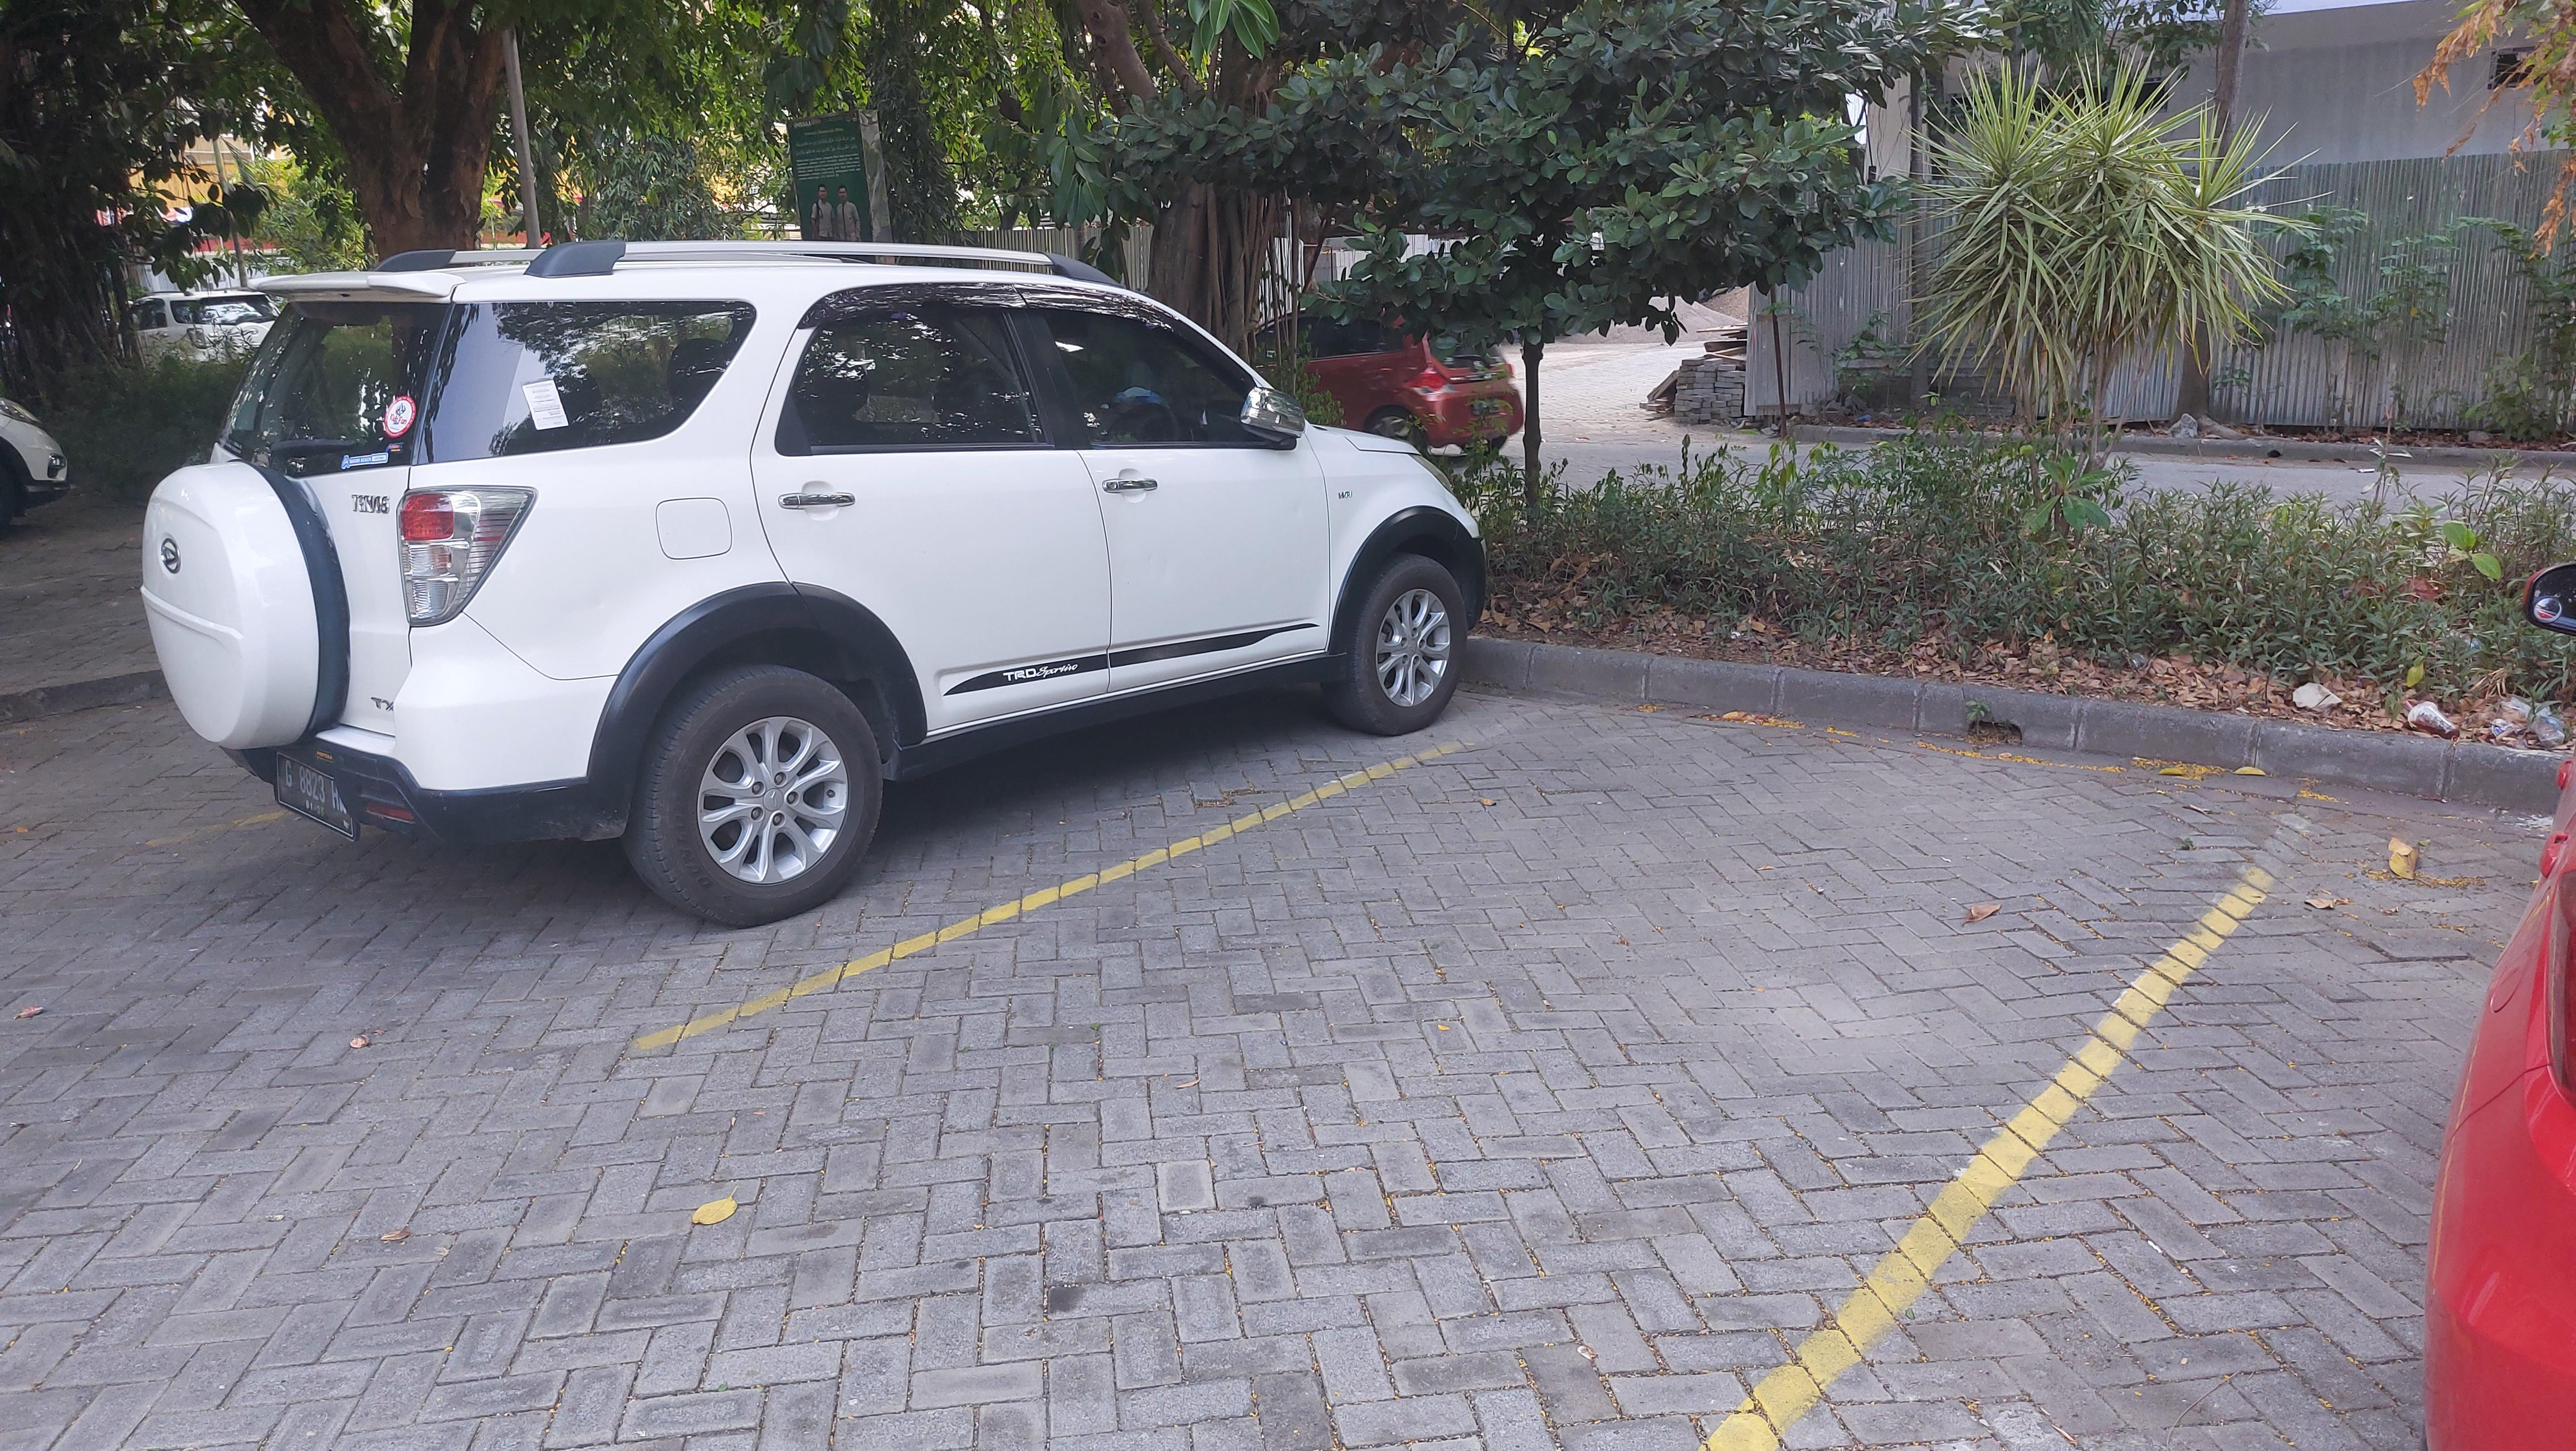empty: (663, 700, 2335, 1445)
occupied: (147, 240, 1534, 1048)
